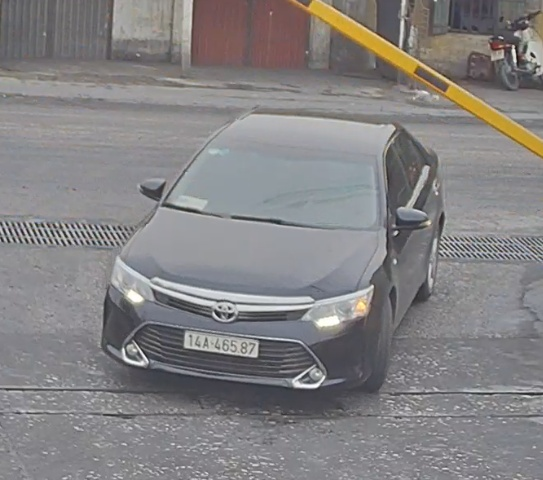vehicle plate: (180, 325, 264, 361)
